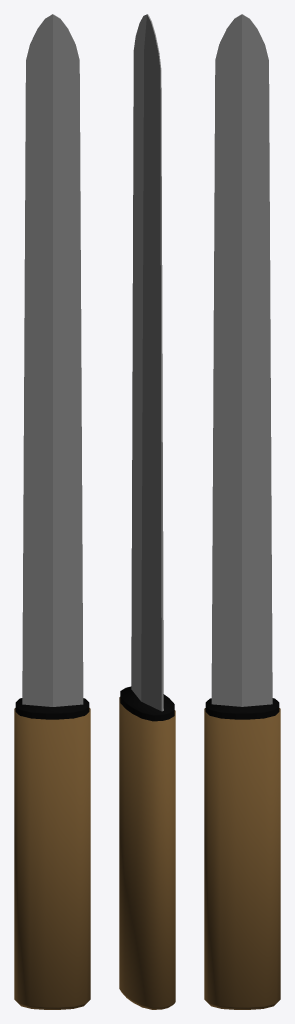
3 views of the same model, side by side, from view 1: azimuth 90°, elevation 25°; view 2: azimuth 210°, elevation 25°; view 3: azimuth 270°, elevation 25° (orthographic).
Visible parts, largest first — view 1: Cube.252; view 2: Cube.252; view 3: Cube.252.
Boxes of the visible parts, x1,y1,x2,y2 form: Cube.252: (14, 14, 90, 1009); Cube.252: (119, 14, 175, 1009); Cube.252: (204, 14, 280, 1009).
Bounding box in the file's own units: 7.99 × 194 × 13.63.
